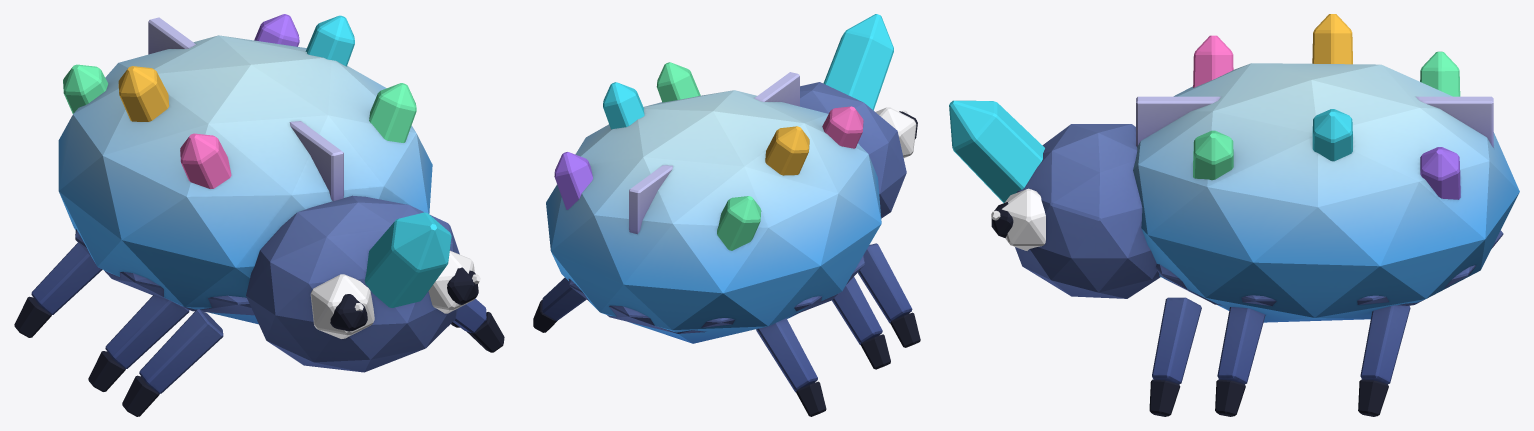
File: CrystalBeetle.fbx
The picture shows the model from 3 angles, left to right: view 1: azimuth 30°, elevation 25°; view 2: azimuth 150°, elevation 25°; view 3: azimuth 270°, elevation 25°; orthographic projection. The views are drawn at different scales.
Parts seen in each view (by area): view 1: CrystalBeetle_Body, RFLeg, RHLeg, LFLeg; view 2: CrystalBeetle_Body, RFLeg, RHLeg, LHLeg; view 3: CrystalBeetle_Body, LFLeg, LHLeg.
Boxes of the visible parts, x1,y1,x2,y2 form: CrystalBeetle_Body: (58,14,480,372); RFLeg: (88,295,223,416); RHLeg: (14,243,102,337); LFLeg: (451,298,504,352); CrystalBeetle_Body: (546,14,917,343); RFLeg: (832,243,920,369); RHLeg: (756,318,826,416); LHLeg: (533,277,586,332); CrystalBeetle_Body: (949,14,1519,322); LFLeg: (1149,297,1265,416); LHLeg: (1358,305,1410,416).
Size of the model in its own units: 3.33 by 2.56 by 4.79.
Materials: 1 (1 with a texture image).
